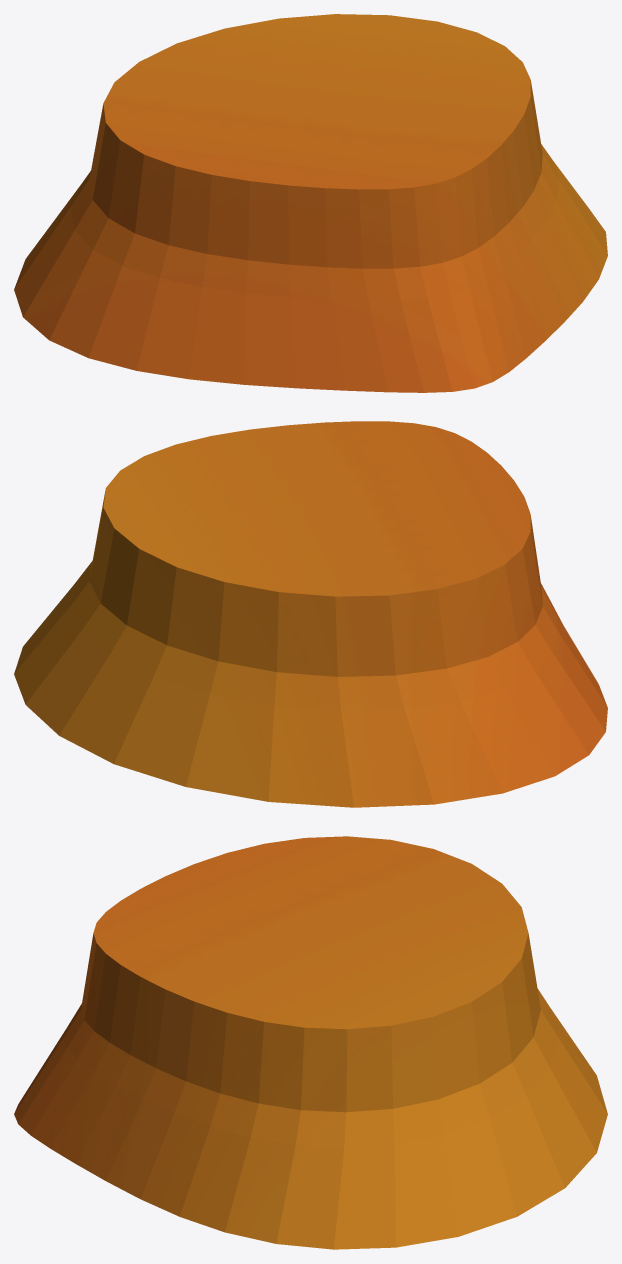
The model's file is mountain.gltf.
The picture shows the model from 3 angles, top to bottom: view 1: azimuth 30°, elevation 25°; view 2: azimuth 150°, elevation 25°; view 3: azimuth 270°, elevation 25°; orthographic projection. The views are drawn at different scales.
Parts seen in each view (by area): view 1: Cylinder; view 2: Cylinder; view 3: Cylinder.
Part boxes in pixels (x1,y1,x2,y2): Cylinder: (14,14,607,392); Cylinder: (14,421,607,807); Cylinder: (14,836,607,1249).
Bounding box in the file's own units: 24.63 × 7.7 × 22.84.
Materials: 1 (1 with a texture image).
